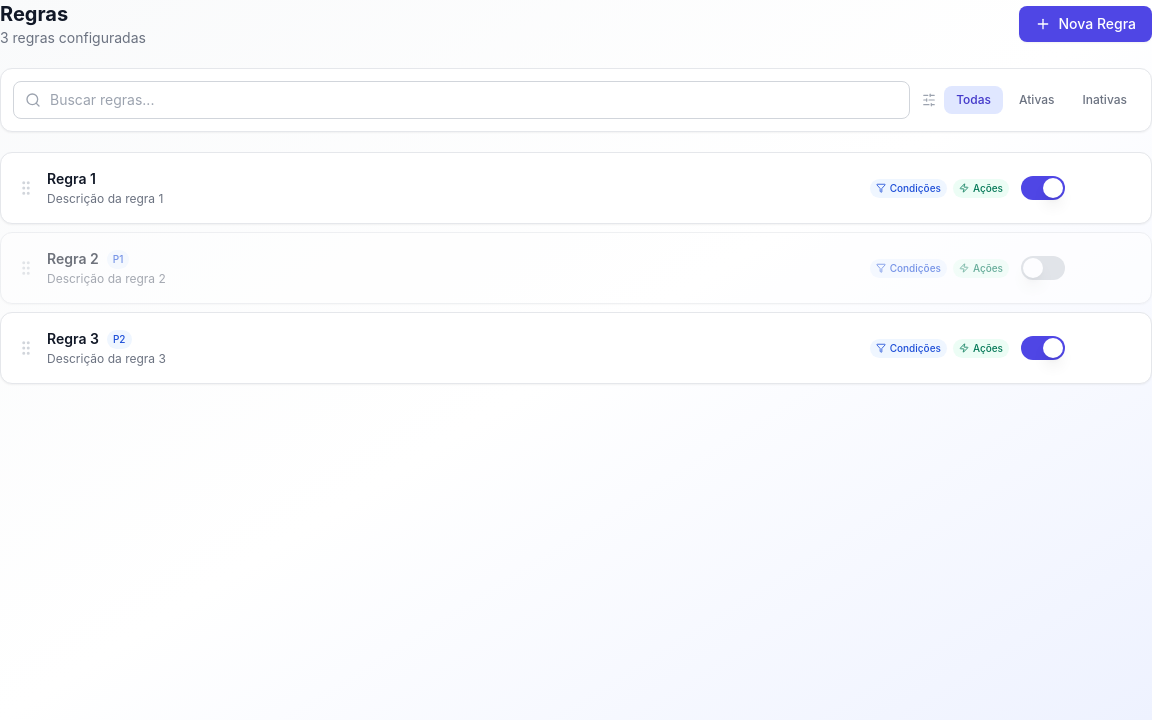
Test case: RuleListView › should filter by disabled status
This screenshot has width=1152, height=720.
Check: the heading "Regra 1" is shown, box [47, 169, 96, 189]
Click the button "Inativas".
click(1105, 100)  # box [1070, 86, 1139, 114]
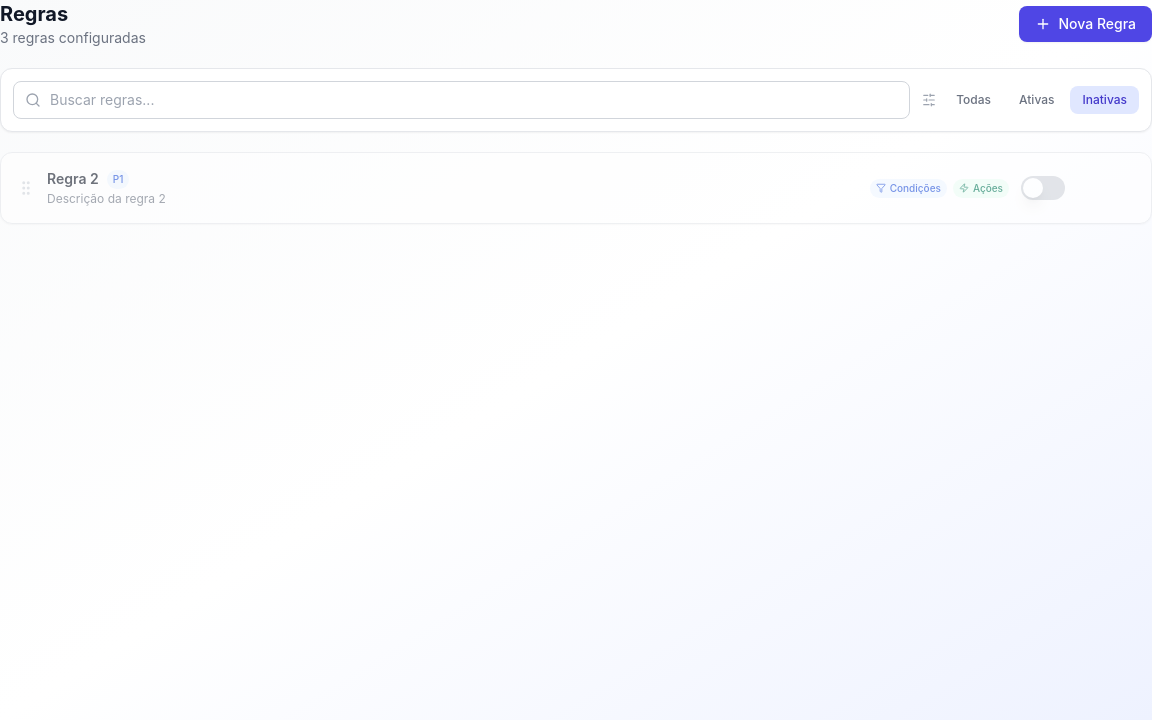
Check: the heading "Regra 2" is shown, box [47, 169, 99, 189]
Check: the button "Regra 1" is gone
